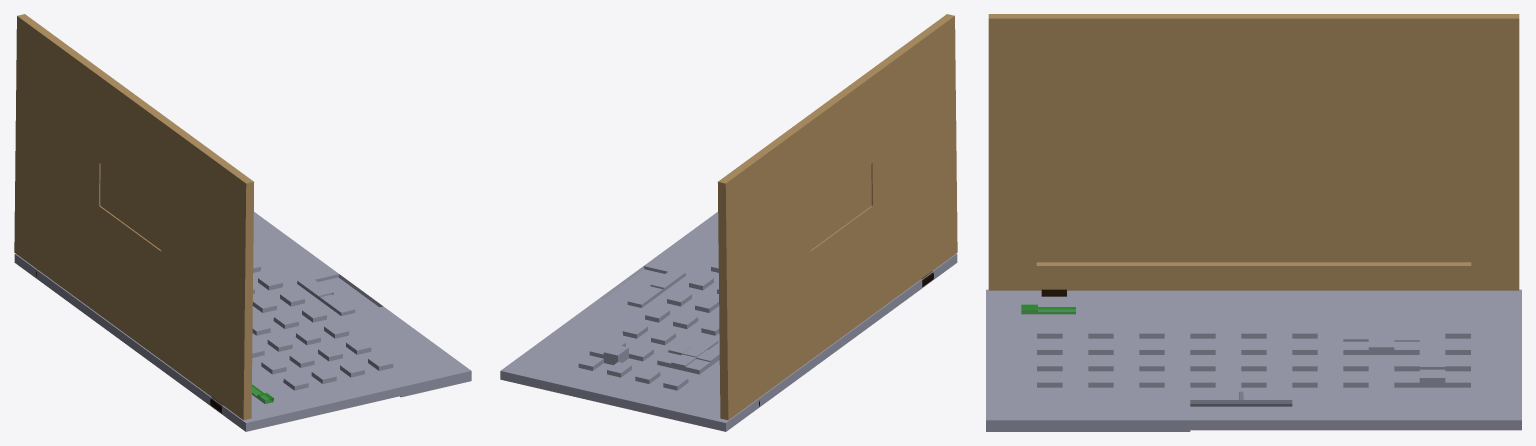
The model's file is Notebook.FBX.
The picture shows the model from 3 angles, left to right: view 1: azimuth 30°, elevation 25°; view 2: azimuth 150°, elevation 25°; view 3: azimuth 270°, elevation 25°; orthographic projection. The views are drawn at different scales.
Parts seen in each view (by area): view 1: Group01, obj0; view 2: Group01, obj0; view 3: Group01, obj0.
Part boxes in pixels (x1,y1,x2,y2): Group01: [14, 14, 273, 420]; obj0: [14, 212, 471, 431]; Group01: [717, 14, 957, 420]; obj0: [500, 212, 957, 431]; Group01: [988, 14, 1519, 314]; obj0: [986, 289, 1521, 431].
Bounding box in the file's own units: 5.11 × 5.41 × 9.02.
